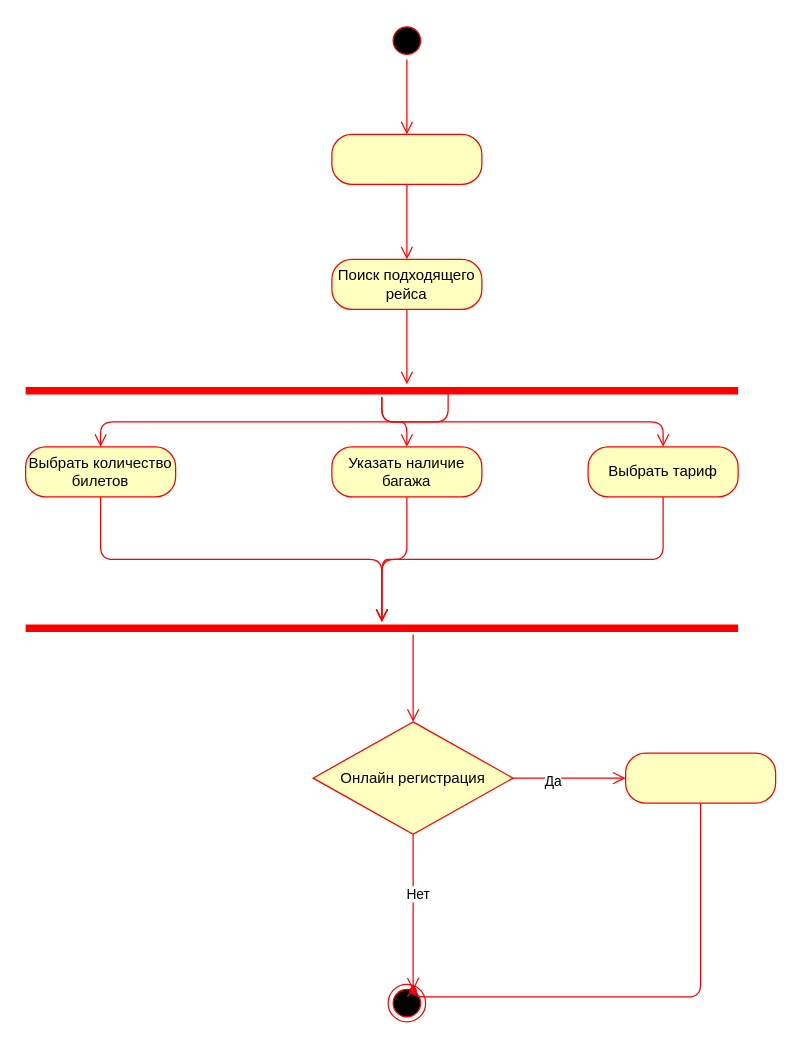
The diagram is 798 pixels wide and 1044 high, and some of its shapes have lost their labels. Here are the shapes that lost their labels. From the top down, the centre of each, then its label:
the point at 406,158: Авторизация
the point at 700,777: Выбрать место
